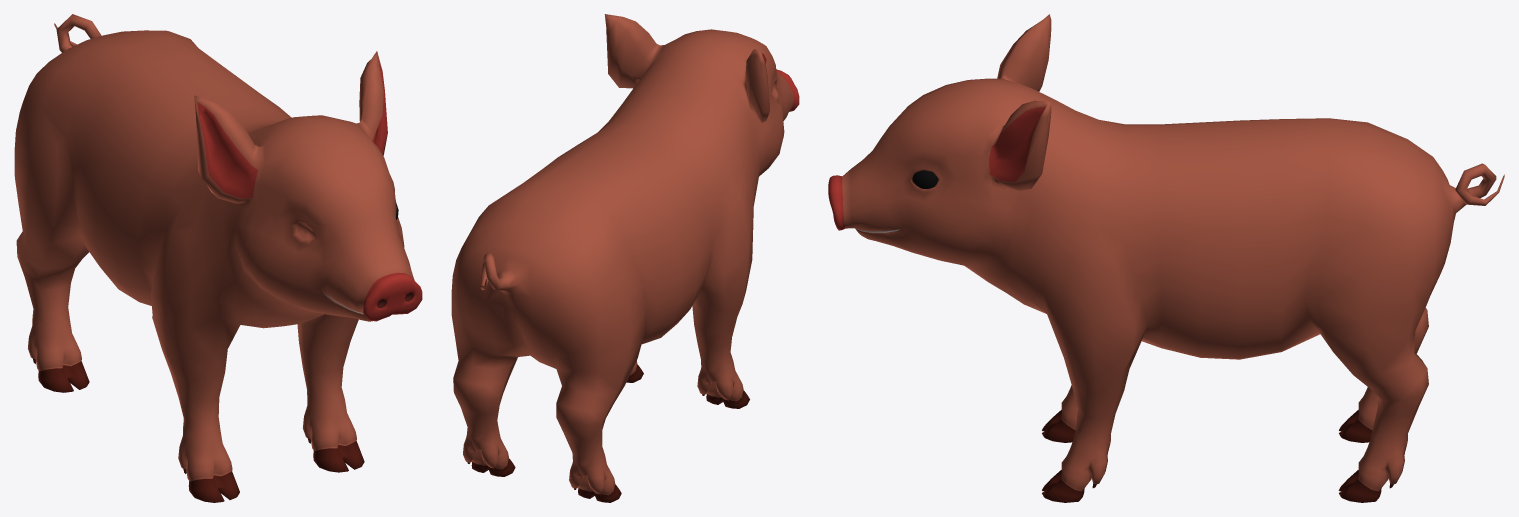
Rendered from minature_pig.obj.
3 renders of one model, left to right at view 1: azimuth 30°, elevation 25°; view 2: azimuth 150°, elevation 25°; view 3: azimuth 270°, elevation 25°, orthographic. The views are drawn at different scales.
Parts seen in each view (by area): view 1: miniature_pig; view 2: miniature_pig; view 3: miniature_pig.
Part boxes in pixels (x1,y1,x2,y2): miniature_pig: (14, 14, 422, 502); miniature_pig: (451, 14, 799, 502); miniature_pig: (828, 14, 1504, 502).
Size of the model in its own units: 0.3308 by 0.6535 by 0.9894.
